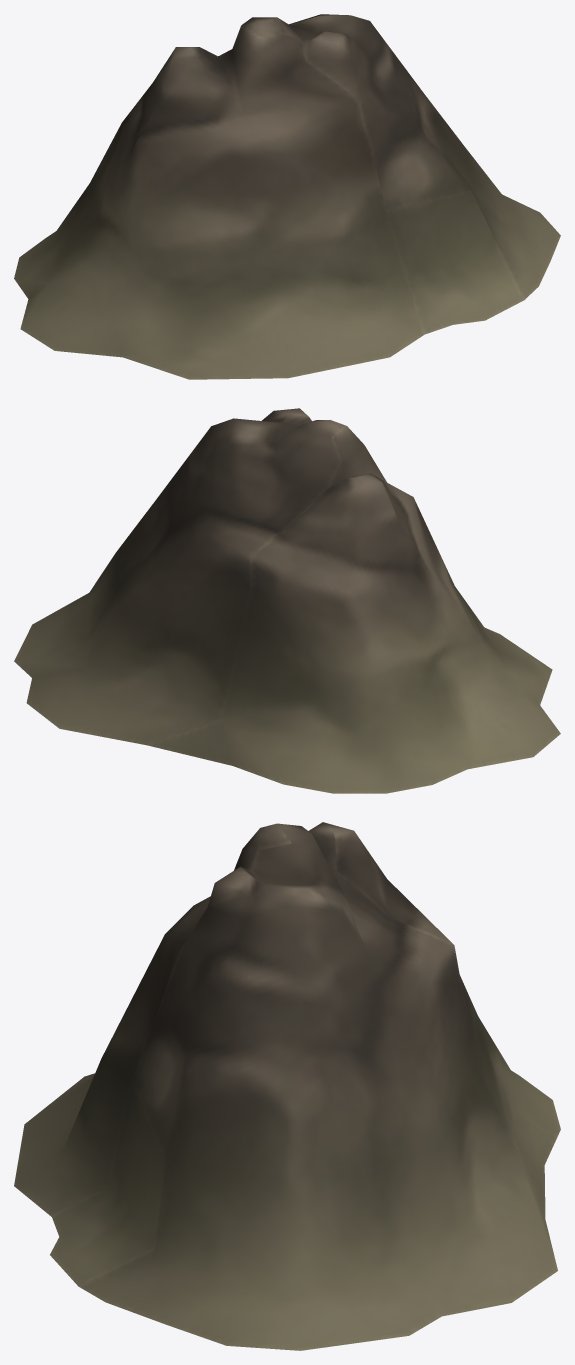
Rendered from Rock_Small_01.FBX.
3 views of the same model, one above another, from view 1: azimuth 30°, elevation 25°; view 2: azimuth 150°, elevation 25°; view 3: azimuth 270°, elevation 25° (orthographic). The views are drawn at different scales.
Parts seen in each view (by area): view 1: Rock_Small_01; view 2: Rock_Small_01; view 3: Rock_Small_01.
Boxes of the visible parts, x1,y1,x2,y2 form: Rock_Small_01: (14,14,560,379); Rock_Small_01: (14,408,560,793); Rock_Small_01: (14,822,560,1350).
Bounding box in the file's own units: 1027 × 515 × 738.
